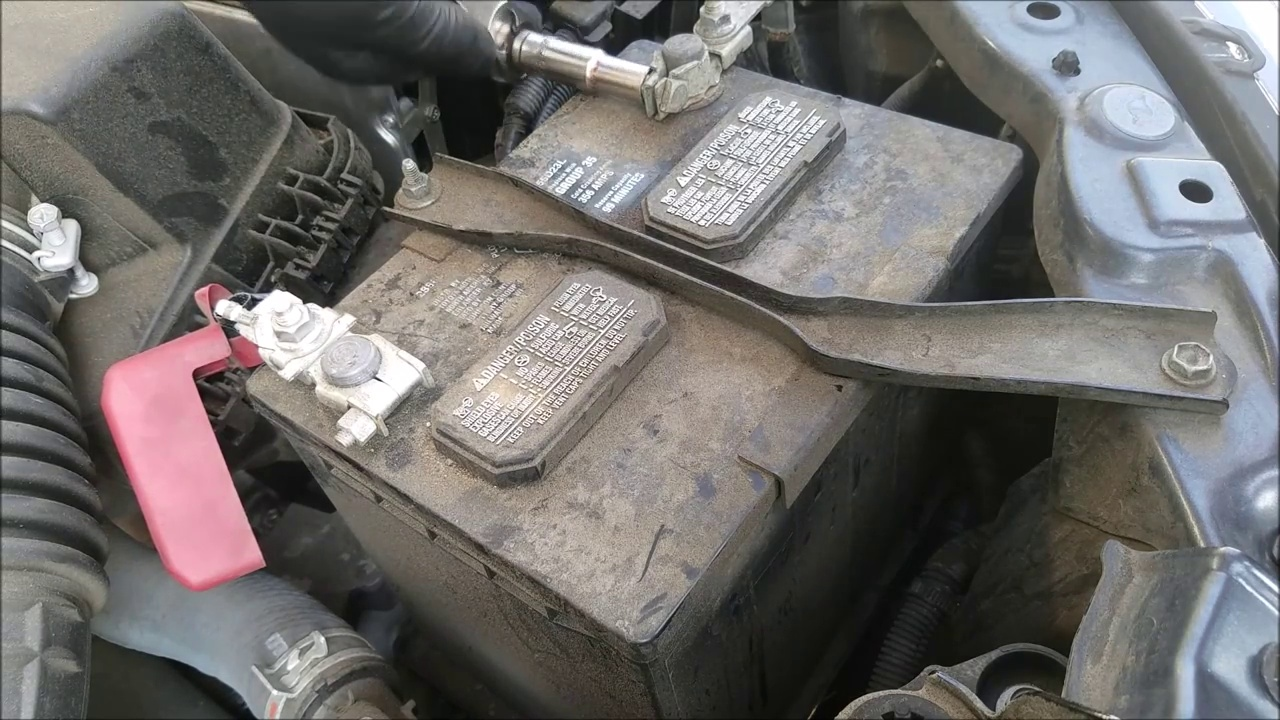battery: (232, 42, 1025, 630)
neg_connected: (582, 18, 773, 141)
pos_connected: (116, 297, 428, 518)
